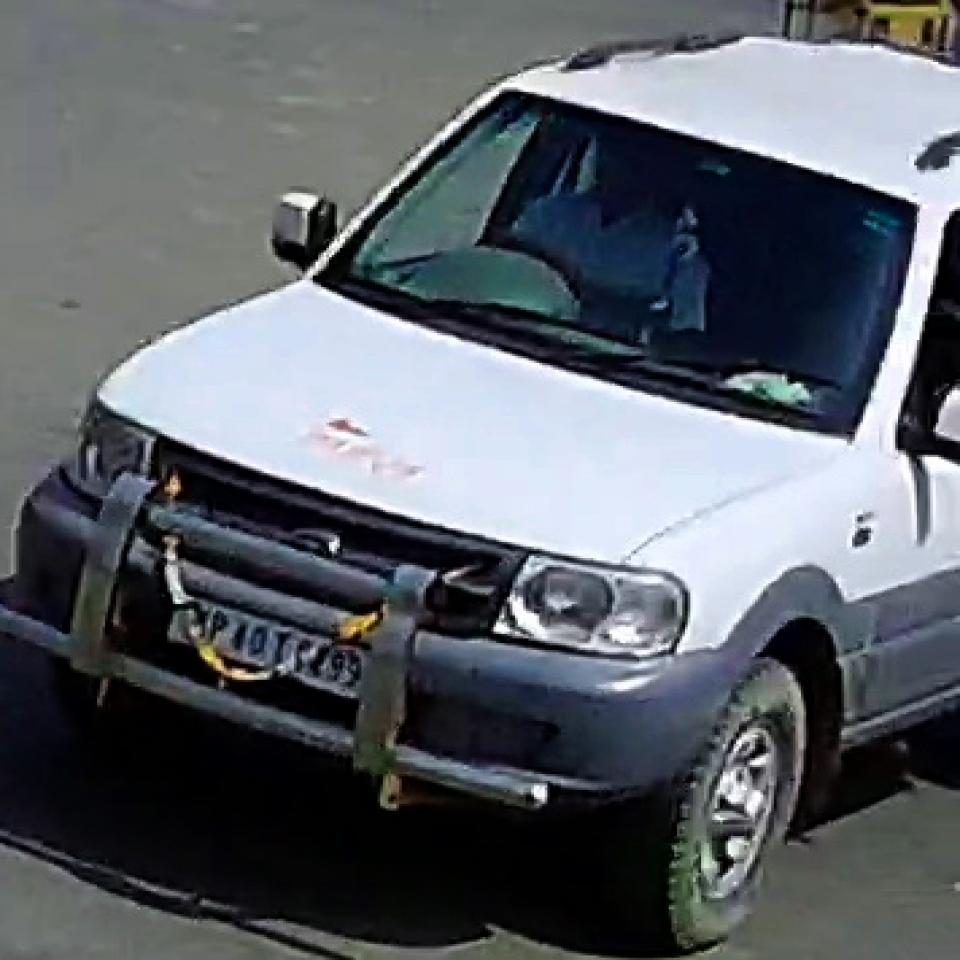head_light: (503, 560, 692, 660), (74, 415, 160, 493)
